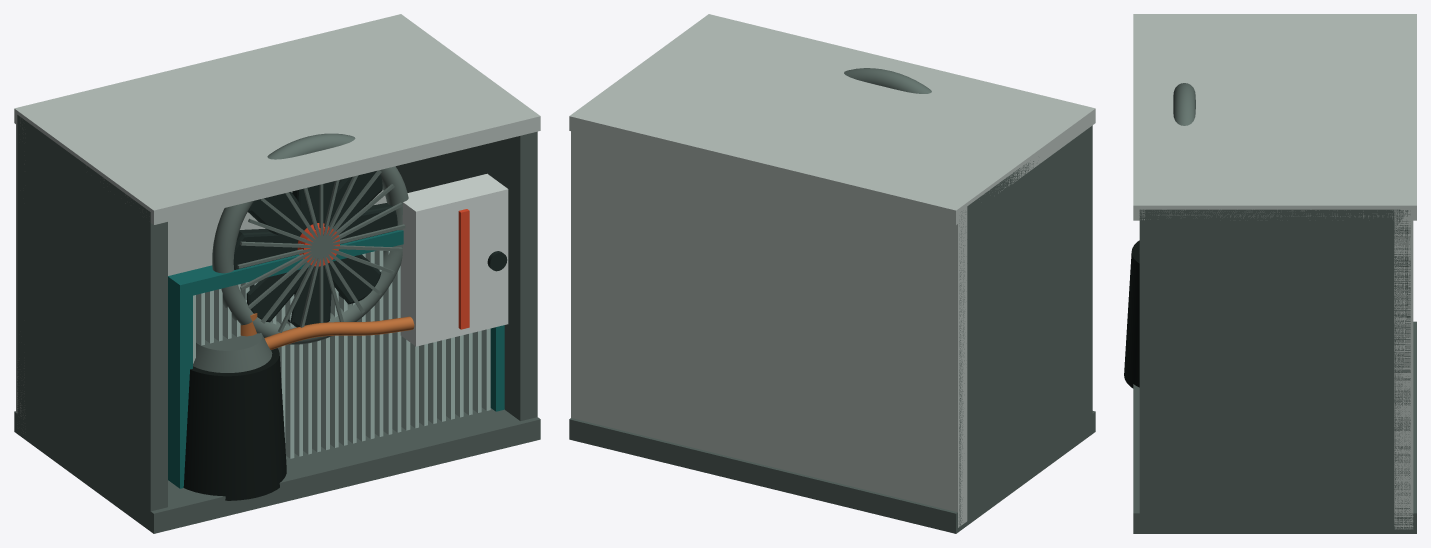
File: kingo-hvac-condenser.glb
3 renders of one model, left to right at view 1: azimuth 30°, elevation 25°; view 2: azimuth 150°, elevation 25°; view 3: azimuth 270°, elevation 25°, orthographic.
Parts seen in each view (by area): view 1: CabinetTop, CabinetLeftPost, ControlBox, CabinetBase, CompressorBody, CabinetRightPost, FanRim, CoilLeftRail, CabinetBack, CoilTopRail, CompressorCap, CopperTube (+41 smaller); view 2: CabinetBack, CabinetTop, CabinetLeftPost, CabinetBase, FanRim; view 3: CabinetRightPost, CabinetTop, CabinetBase, CabinetBack, CompressorBody, FanRim.
Boxes of the visible parts, box(x1,y1,x2,y2) form: CabinetTop: box(14, 14, 540, 224); CabinetLeftPost: box(17, 115, 167, 526); ControlBox: box(400, 173, 508, 346); CabinetBase: box(14, 407, 540, 533); CompressorBody: box(183, 348, 286, 500); CabinetRightPost: box(396, 131, 537, 421); FanRim: box(212, 133, 408, 344); CoilLeftRail: box(168, 273, 192, 488); CabinetBack: box(16, 114, 386, 433); CoilTopRail: box(180, 230, 403, 298); CompressorCap: box(193, 333, 272, 372); CopperTube: box(264, 316, 414, 349); CabinetBack: box(571, 131, 967, 527); CabinetTop: box(569, 14, 1095, 224); CabinetLeftPost: box(959, 125, 1092, 526); CabinetBase: box(569, 411, 1095, 533); FanRim: box(844, 68, 931, 93); CabinetRightPost: box(1139, 209, 1410, 529); CabinetTop: box(1133, 14, 1416, 220); CabinetBase: box(1133, 321, 1416, 533); CabinetBack: box(1394, 209, 1413, 529); CompressorBody: box(1124, 240, 1139, 388); FanRim: box(1173, 83, 1195, 125).
Size of the model in its own units: 3.6 by 2.97 by 2.32.
